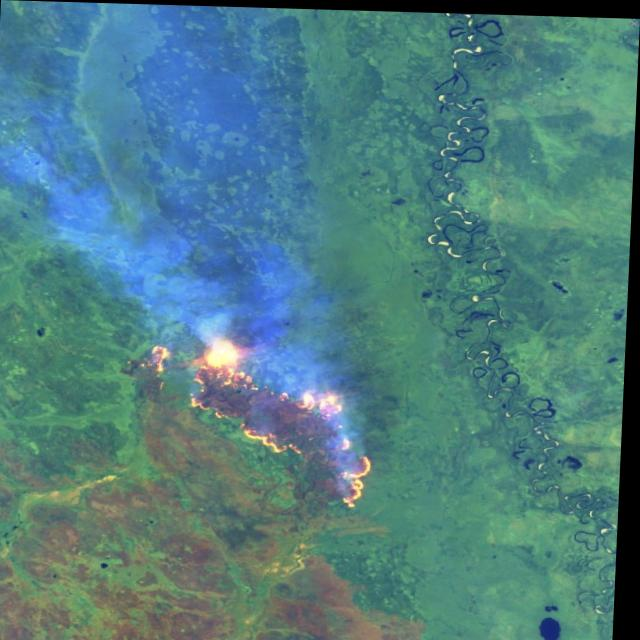fire: (123, 331, 387, 508)
